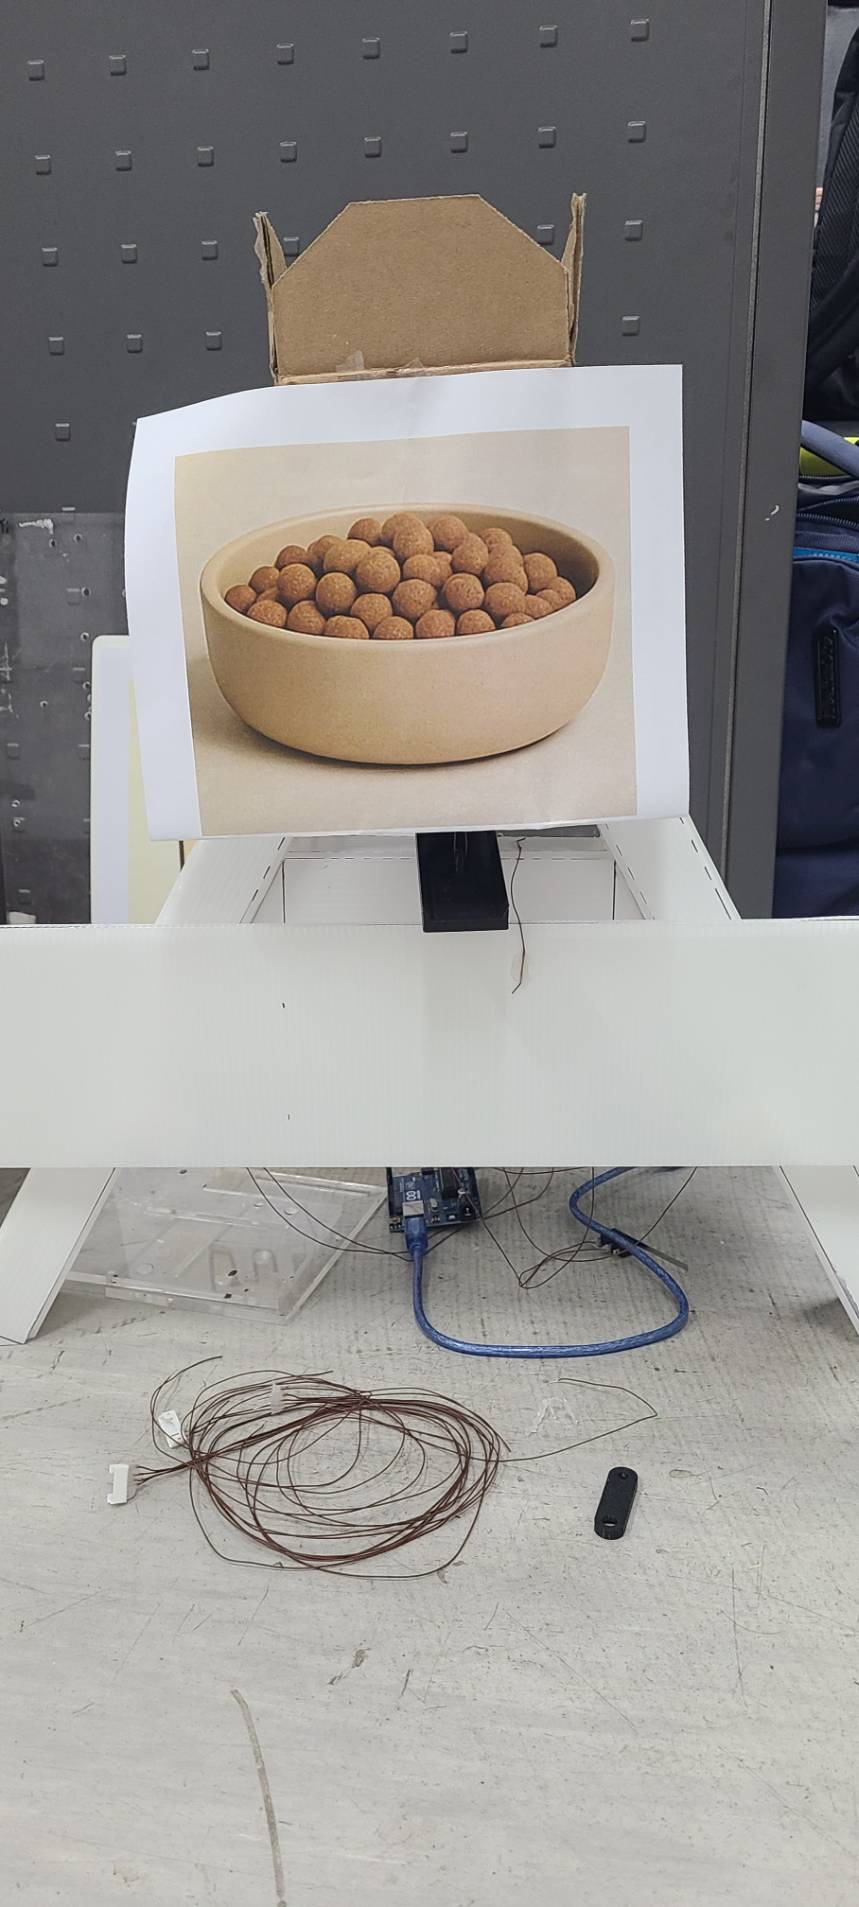machine: (201, 508, 621, 761)
